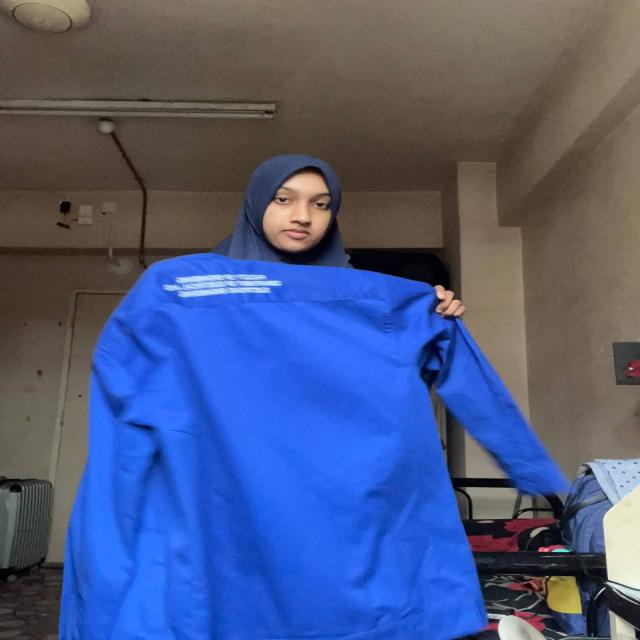person_without_labcoat: (59, 155, 567, 640)
